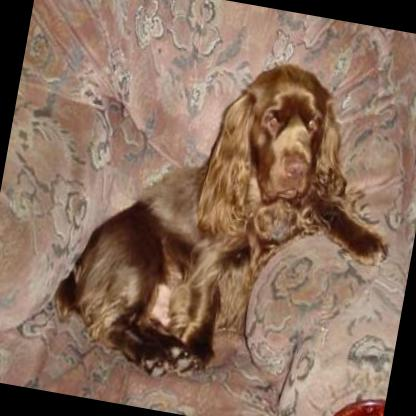Sussex_spaniel: (46, 32, 414, 410)
